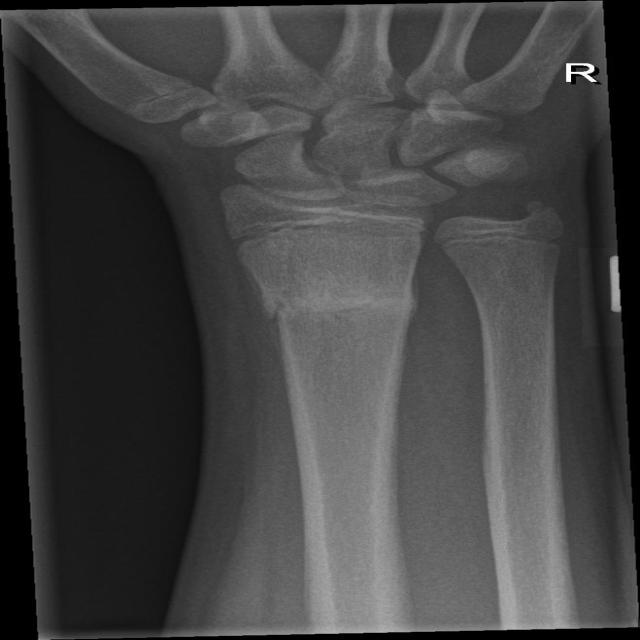fracture: (215, 203, 440, 254), (247, 284, 428, 330), (417, 221, 581, 261)
